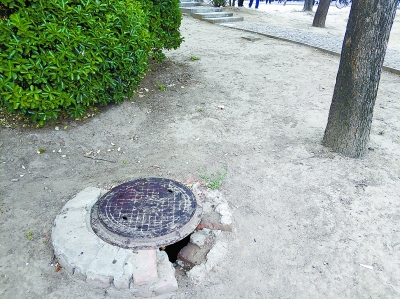circle: (46, 173, 242, 285)
